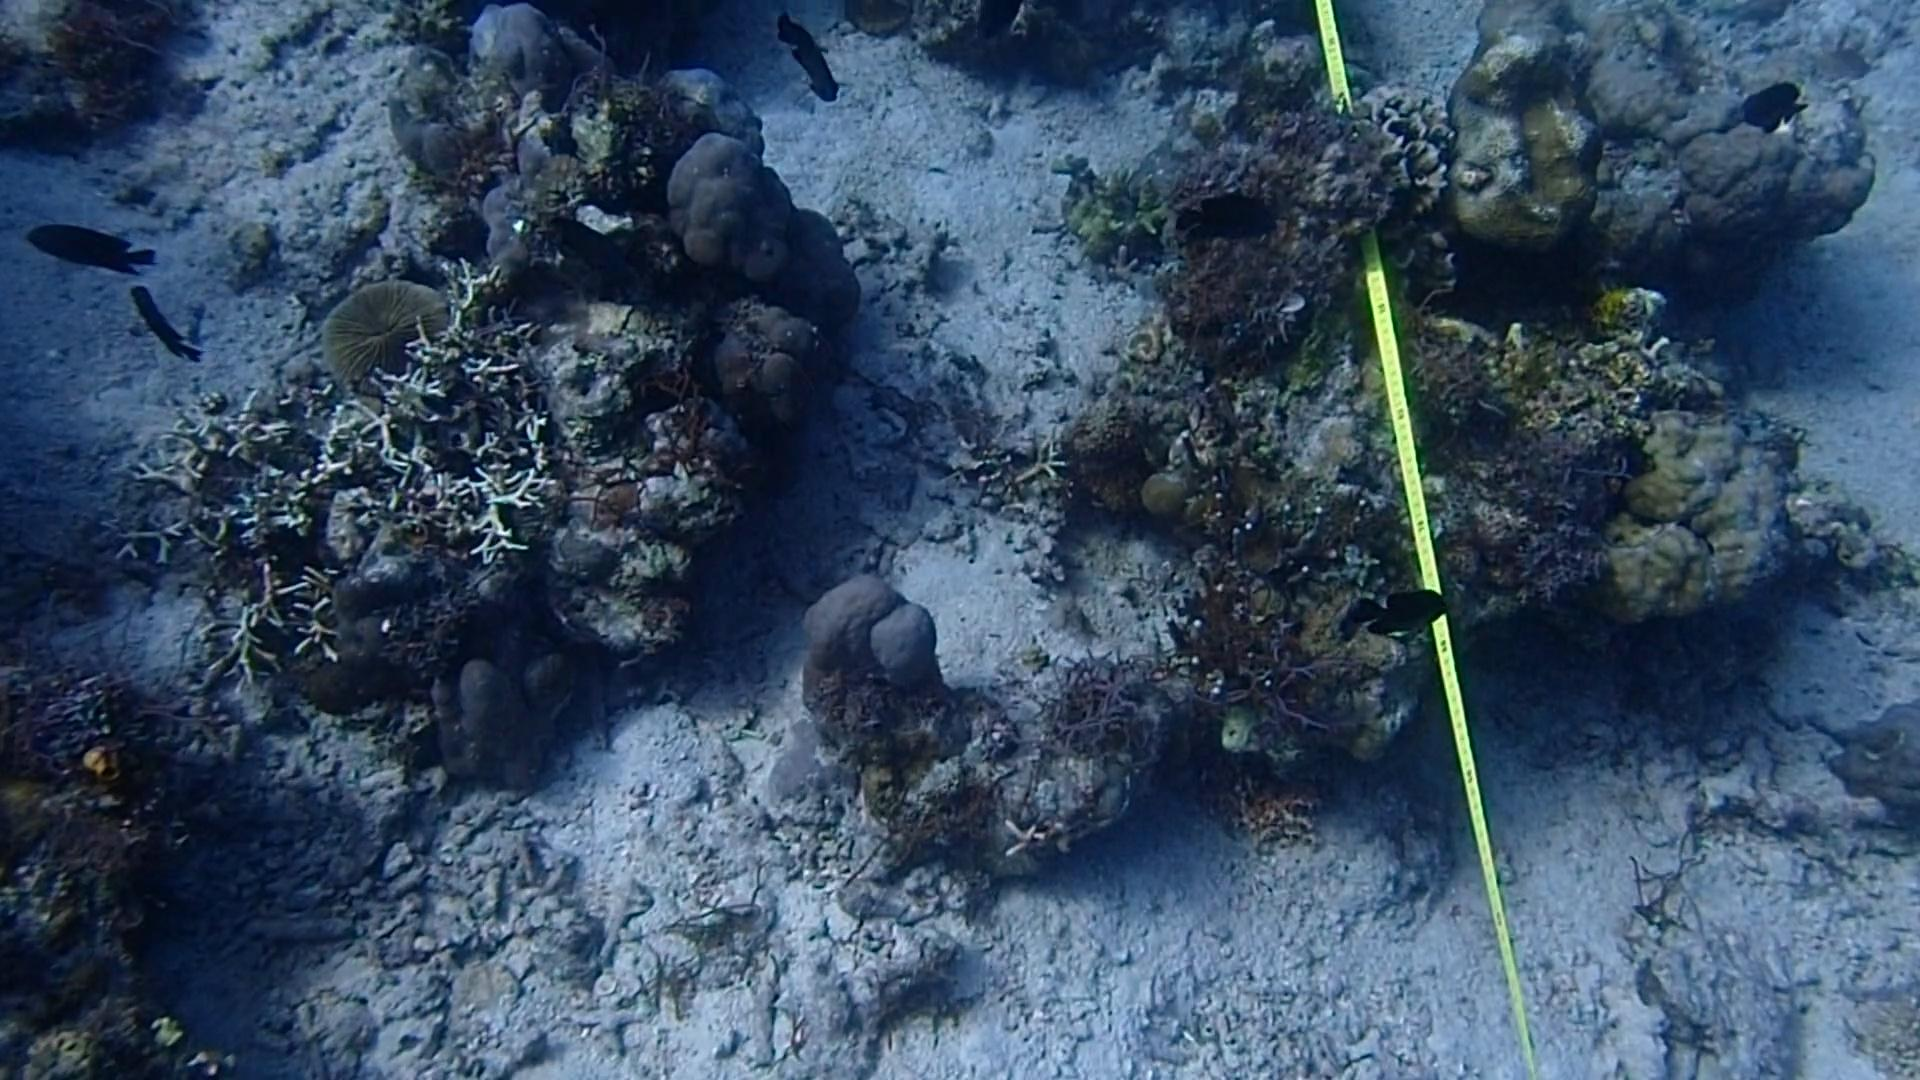Dark Fish: (538, 218, 661, 332), (25, 218, 165, 280), (773, 18, 864, 105), (1168, 186, 1275, 257), (128, 285, 208, 369), (1345, 593, 1466, 645), (1741, 78, 1811, 138)
